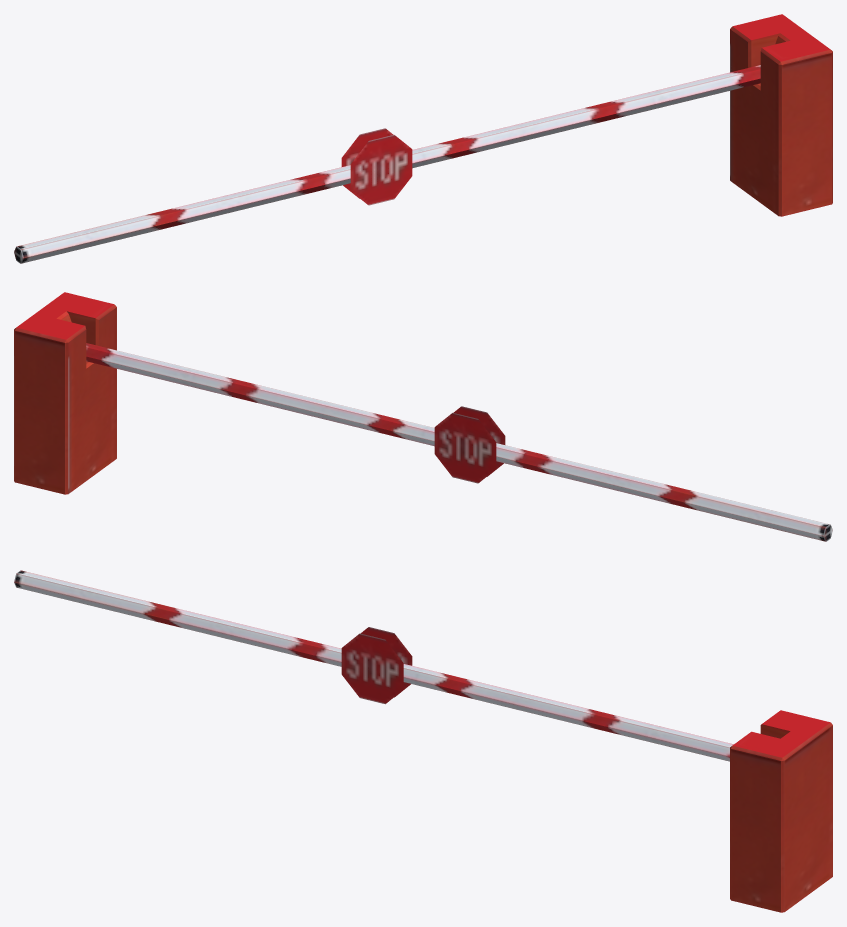
The model's file is RoadGate01.obj.
3 views of the same model, one above another, from view 1: azimuth 30°, elevation 25°; view 2: azimuth 150°, elevation 25°; view 3: azimuth 330°, elevation 25° (orthographic).
Visible parts, largest first — view 1: RoadGate01.Base, RoadGate01.Pole; view 2: RoadGate01.Base, RoadGate01.Pole; view 3: RoadGate01.Base, RoadGate01.Pole.
Part boxes in pixels (x1,y1,x2,y2): RoadGate01.Base: [730, 14, 832, 216]; RoadGate01.Pole: [14, 65, 760, 263]; RoadGate01.Base: [14, 292, 116, 494]; RoadGate01.Pole: [86, 343, 832, 541]; RoadGate01.Base: [730, 710, 832, 912]; RoadGate01.Pole: [14, 570, 733, 761].
Bounding box in the file's own units: 10.74 × 2.03 × 1.2.
